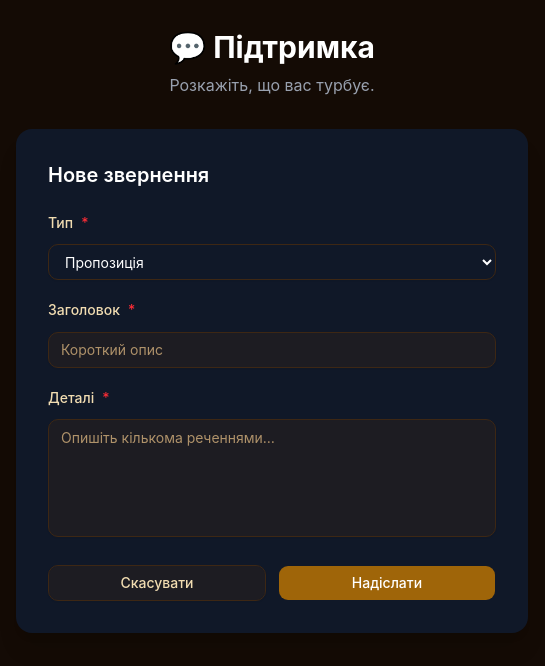
Test: CreateSubmission › reports the body limit (too short) with SUPPORT.body_min on blur
Click the text box with test id "submission-body-input" at (272, 478), box x1=48 y1=419 x2=496 y2=537
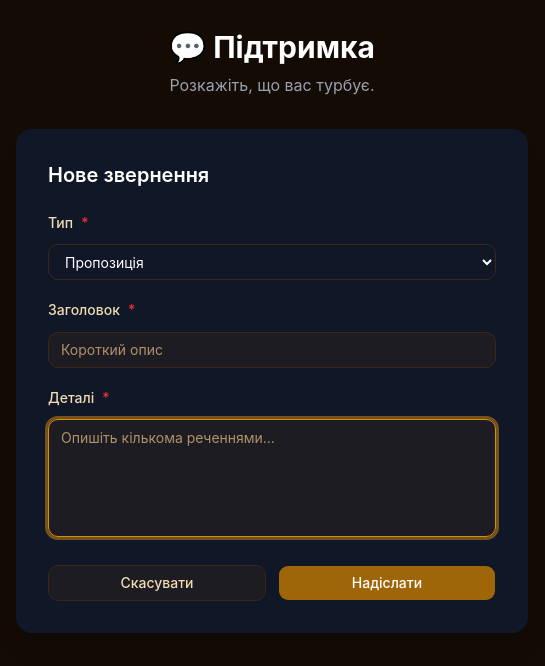
Type keys "too short"
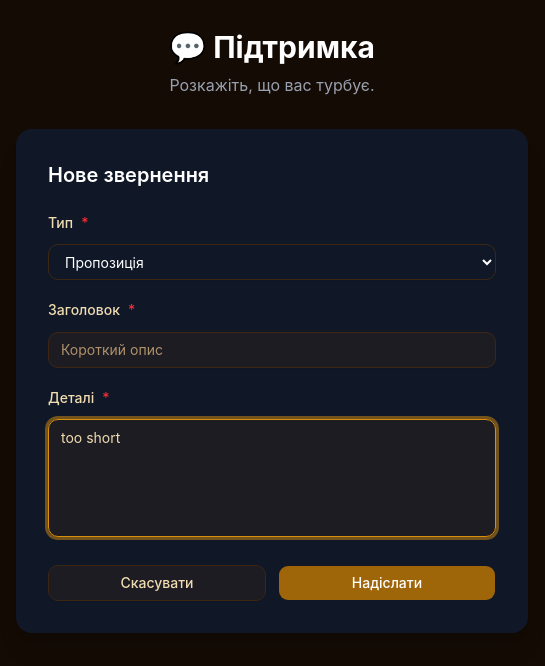
Press Tab
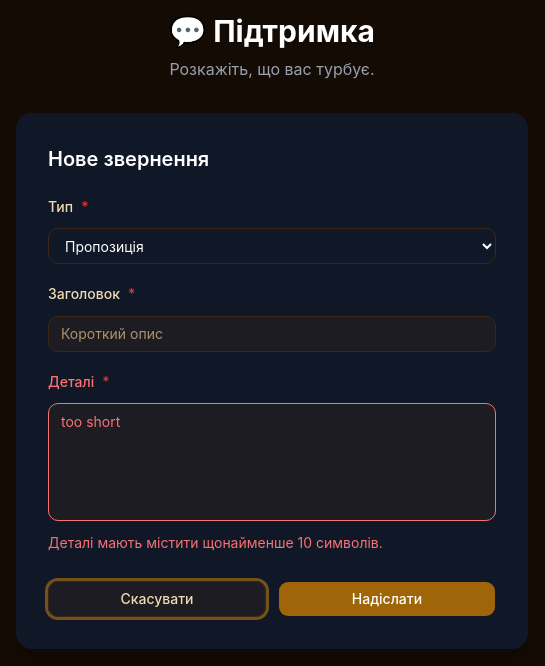
expect the text "Деталі мають містити щонайменше 10 символів." is shown: met, box x1=48 y1=534 x2=383 y2=551
